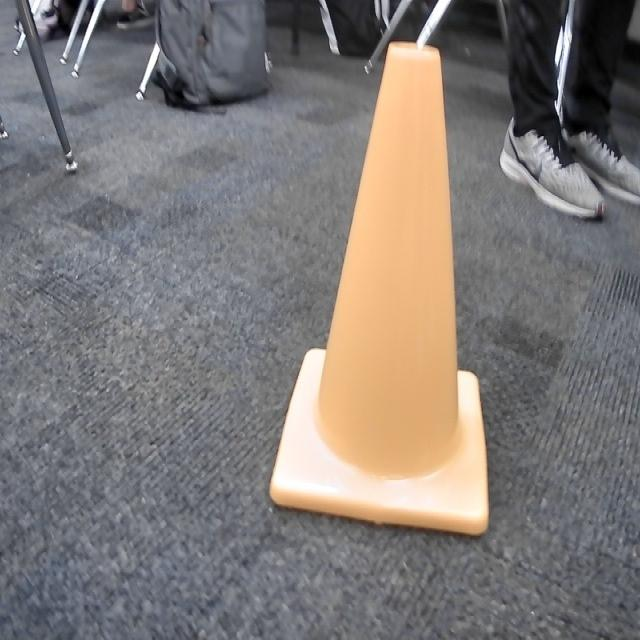cone: (266, 34, 496, 546)
